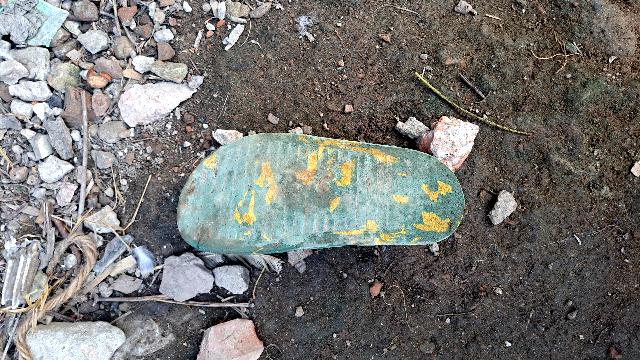sandal: (165, 118, 482, 249)
